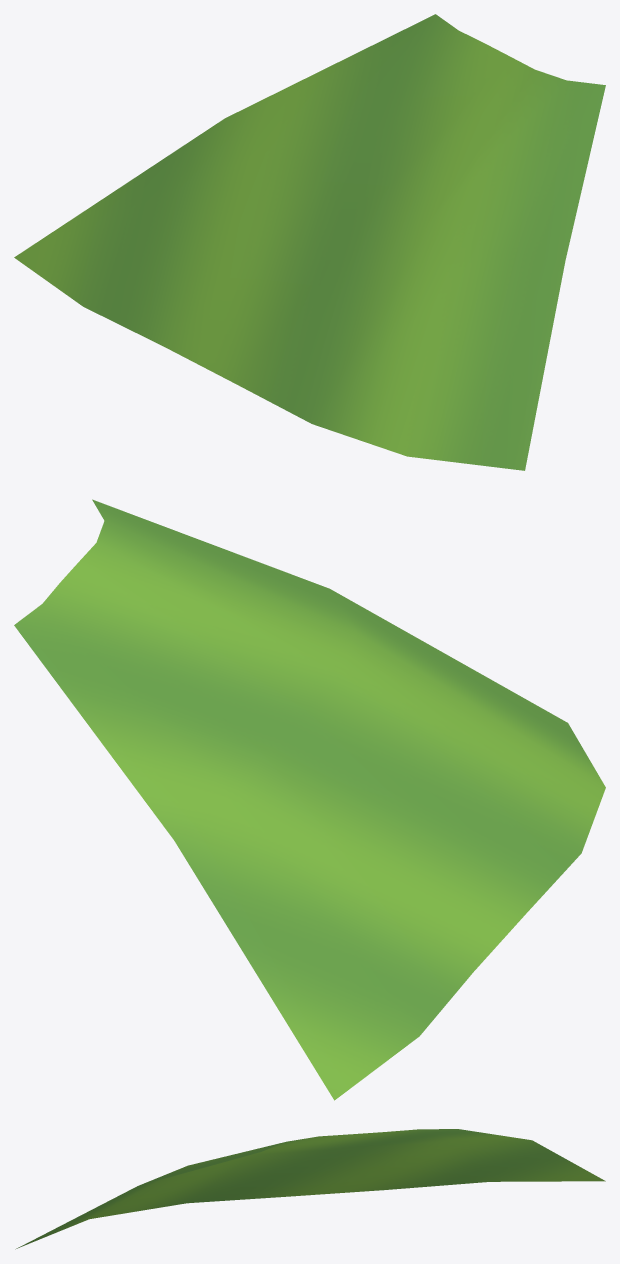
Rendered from ISL-S_LOD1_Grass.fbx.
The picture shows the model from 3 angles, top to bottom: view 1: azimuth 30°, elevation 25°; view 2: azimuth 150°, elevation 25°; view 3: azimuth 270°, elevation 25°; orthographic projection. The views are drawn at different scales.
Parts seen in each view (by area): view 1: ISL-S_LOD1_Grass; view 2: ISL-S_LOD1_Grass; view 3: ISL-S_LOD1_Grass.
Part boxes in pixels (x1,y1,x2,y2): ISL-S_LOD1_Grass: [14, 14, 605, 470]; ISL-S_LOD1_Grass: [14, 499, 605, 1100]; ISL-S_LOD1_Grass: [15, 1129, 605, 1249].
Size of the model in its own units: 11.33 by 17.42 by 6.24.
